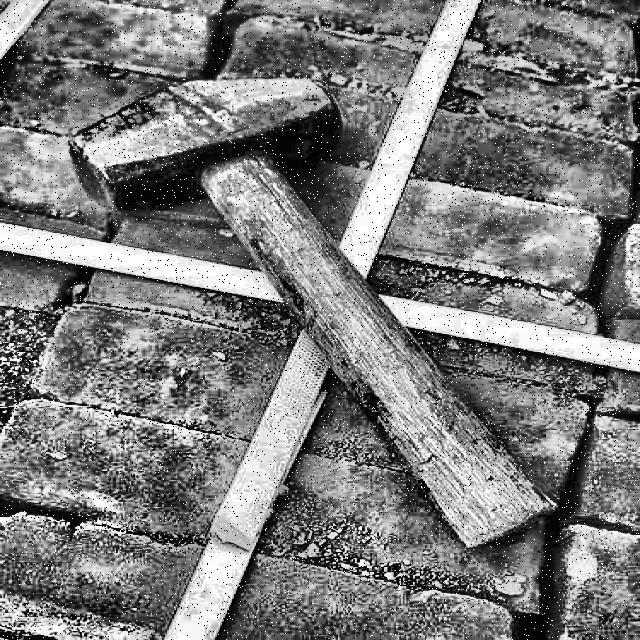hammer: (68, 73, 560, 552)
